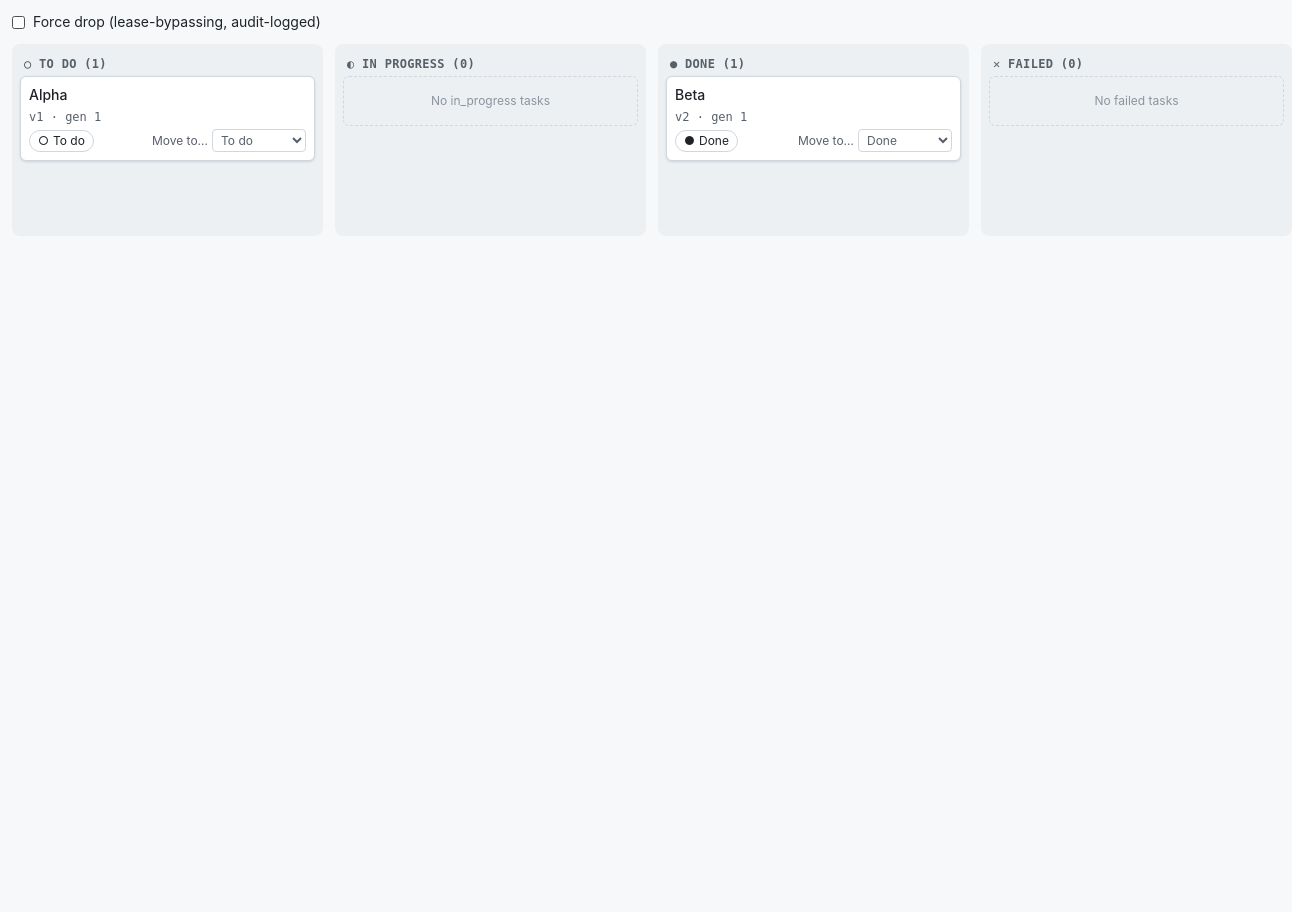
Test: a11y pass › task cards expose a keyboard Move-to select that PATCHes without drag
The width and height of the screenshot is (1292, 912).
Select "In progress" in the dropdown named "Move Alpha to status" at (259, 140), box top-left (212, 129), bottom-right (306, 152)
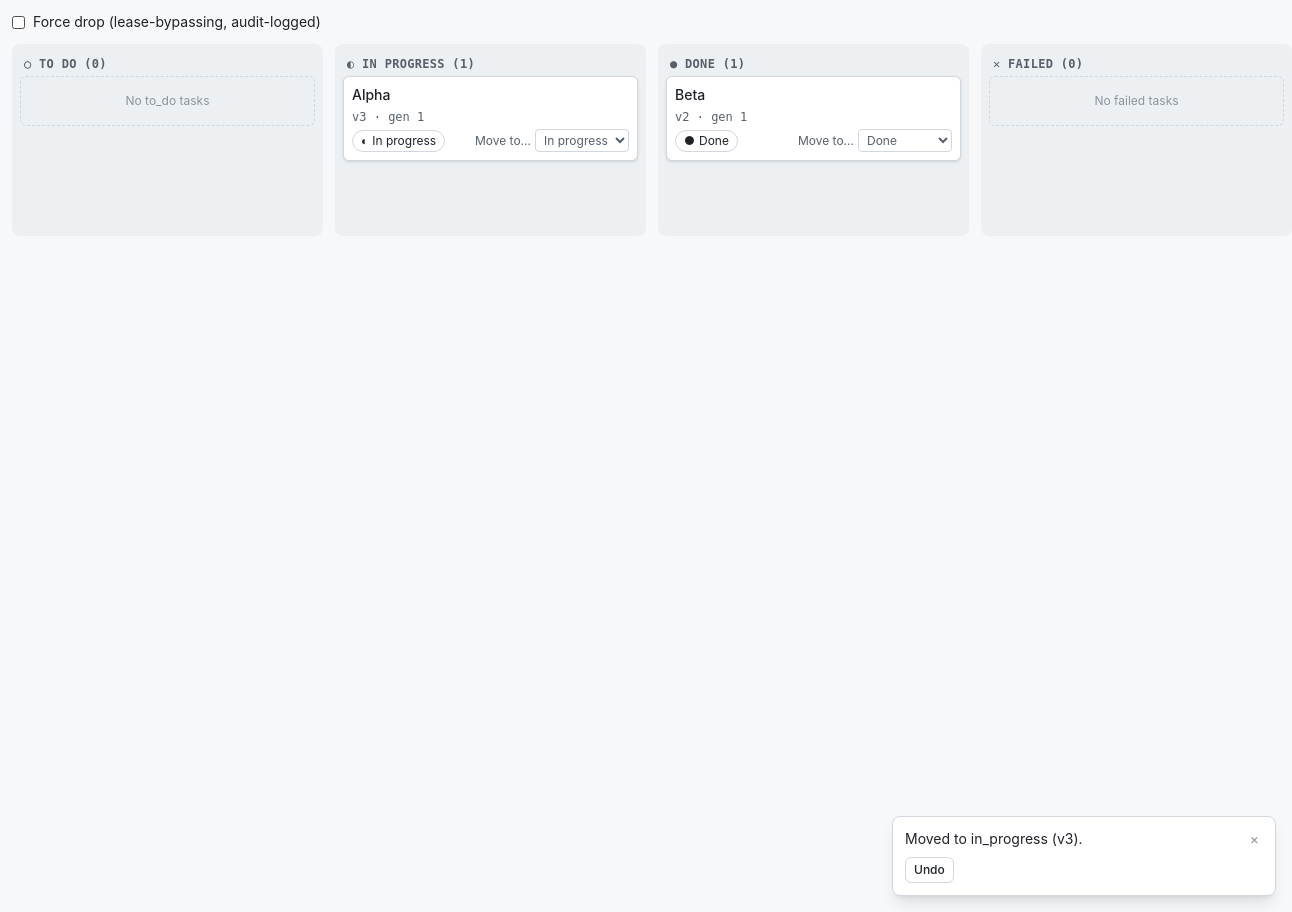
Now the text "Moved to in_progress (v3)." is shown, box top-left (905, 830), bottom-right (1083, 847)
